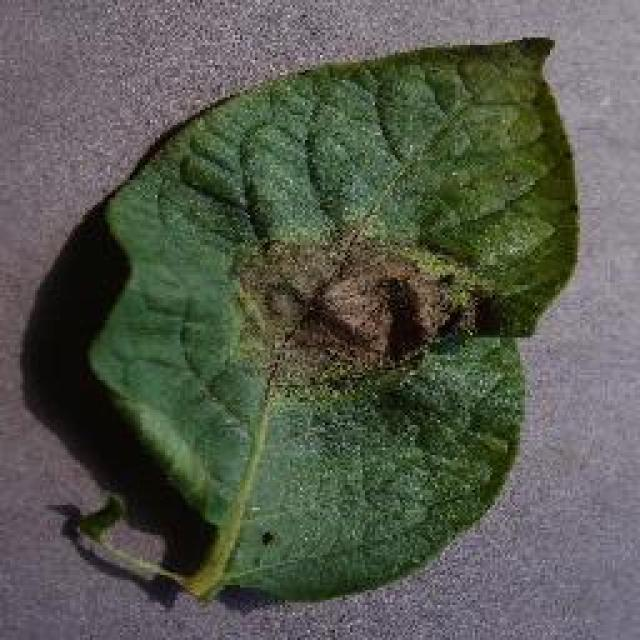late_blight: (78, 30, 582, 605)
